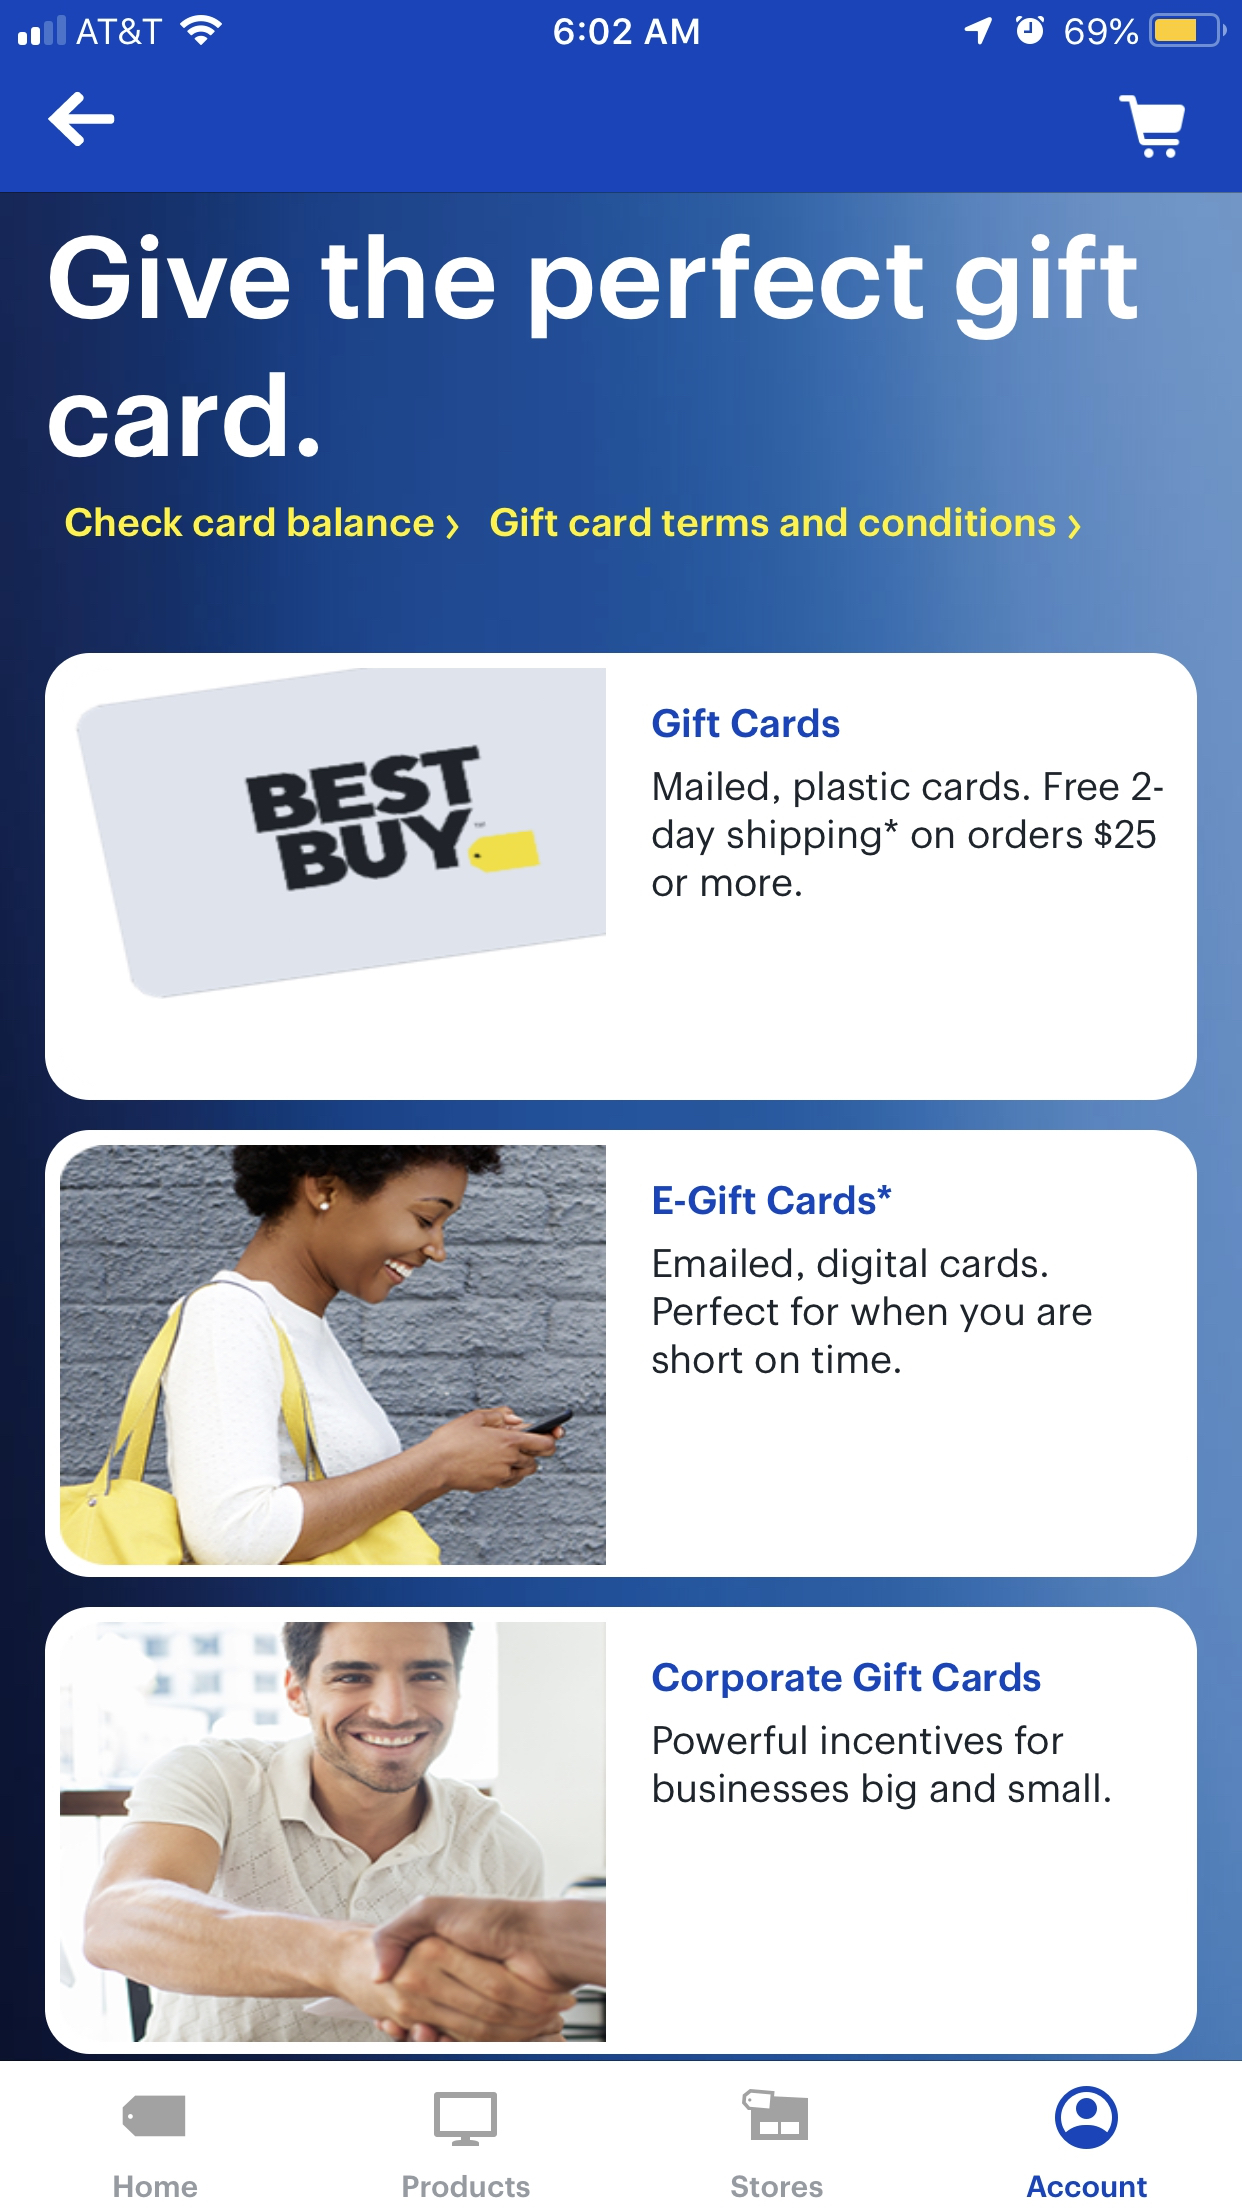Icon: (1118, 96, 1186, 161), (1055, 2087, 1119, 2150), (49, 93, 115, 149), (121, 2094, 187, 2137), (444, 516, 459, 541), (1068, 516, 1081, 541)
Image: (61, 1145, 607, 1567), (61, 1623, 607, 2043), (76, 667, 607, 999), (434, 2093, 497, 2147), (742, 2090, 808, 2141)
Text: (49, 234, 1137, 459), (654, 770, 1165, 898), (652, 1247, 1092, 1374), (654, 1724, 1112, 1811), (491, 507, 1057, 538), (652, 1662, 1040, 1698), (65, 507, 435, 538), (654, 1184, 892, 1216), (652, 708, 840, 739), (403, 2175, 531, 2197), (1027, 2175, 1148, 2197), (731, 2175, 823, 2197), (115, 2175, 199, 2197)
UpperTaskBar: (2, 2, 1242, 49)
